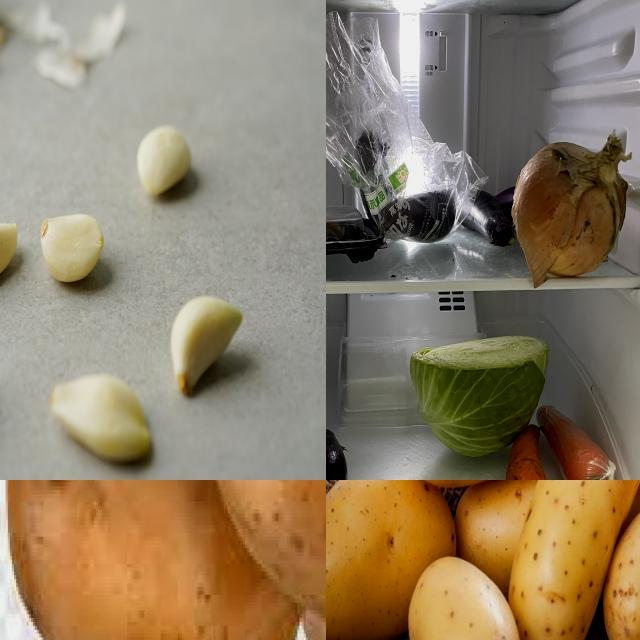cabbage: (412, 334, 552, 470)
carrot: (536, 402, 620, 481), (504, 414, 547, 481)
eggplant: (354, 129, 401, 233), (386, 190, 456, 243), (454, 190, 512, 243), (327, 428, 347, 481), (496, 187, 518, 209)
garlic: (50, 367, 158, 473), (171, 291, 246, 403), (40, 210, 110, 294), (138, 125, 196, 207), (1, 219, 21, 284)
onion: (513, 134, 628, 288)
potato: (6, 481, 300, 640), (507, 481, 640, 640), (327, 481, 456, 640), (207, 481, 327, 640), (409, 553, 523, 640)
